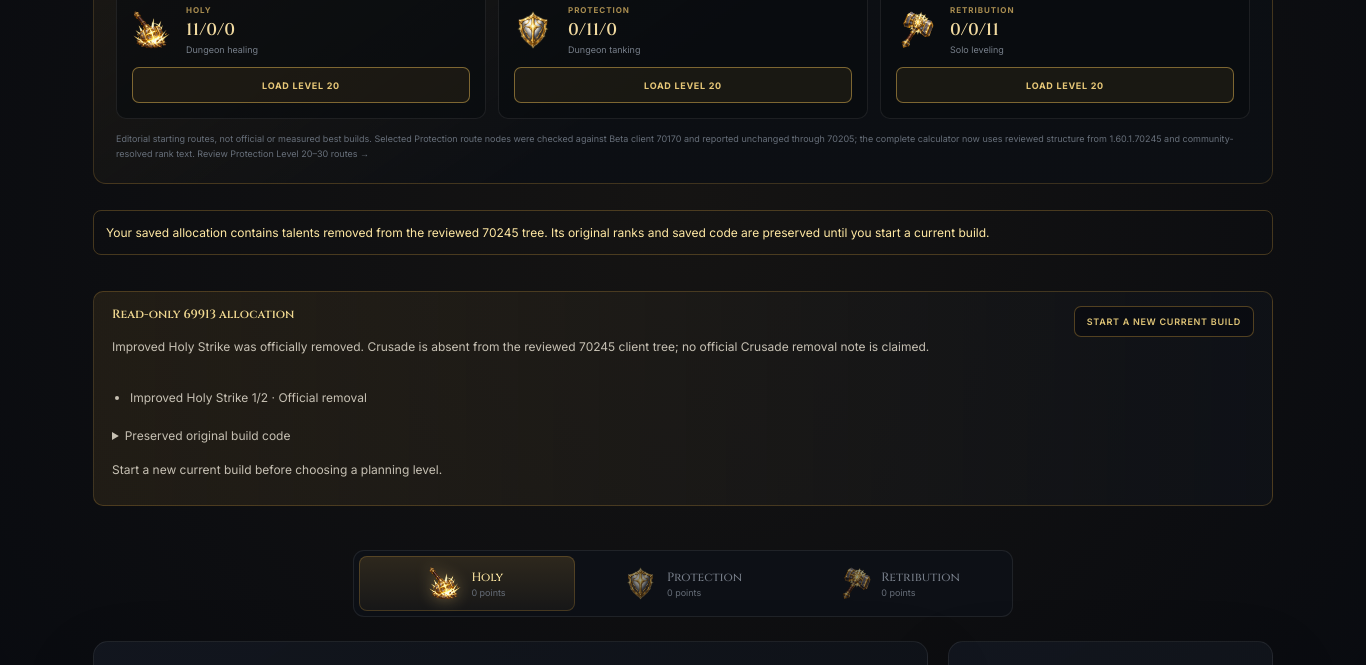
it: requires an explicit new current build before references can replace a historical draft
(page scrolled)
Expected: the element named "Historical Paladin allocation" is shown, [93,291,1273,506]
Expected: the button "Load 13/0/38 reference" is not shown
Click the button "Start a new current build": (1164,322) [1074,306,1254,337]
(page scrolled)
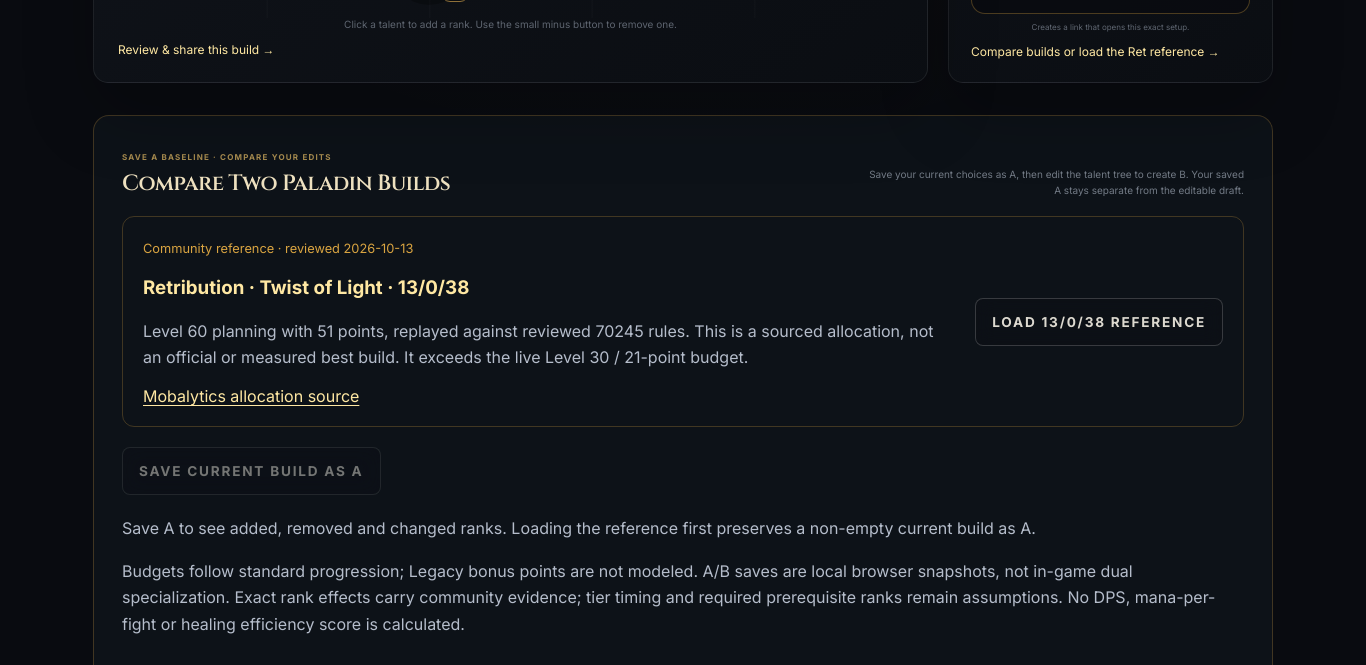
Now the button "Load 13/0/38 reference" is shown, box [975,298,1223,346]
